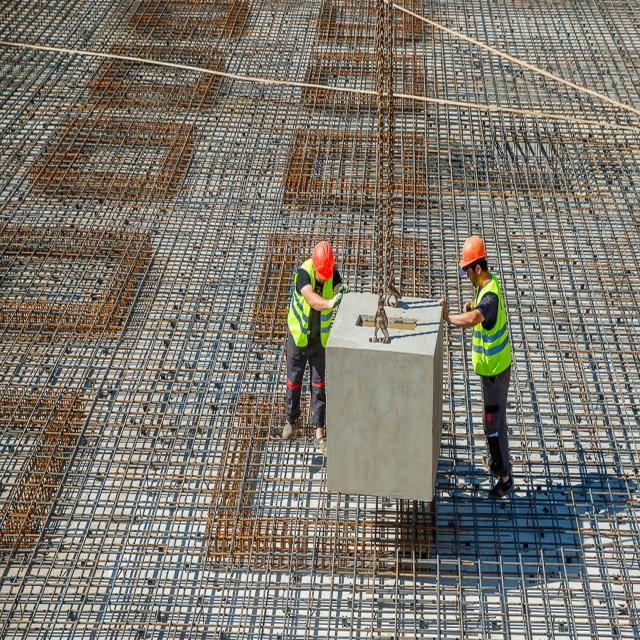Helmet: (459, 238, 489, 271), (313, 242, 336, 281)
Jacket: (471, 278, 505, 373), (289, 278, 337, 345)
